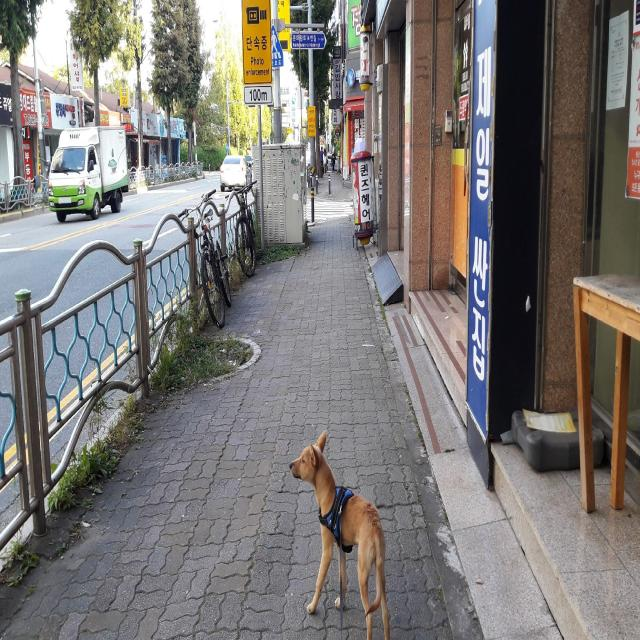횡단보도: (303, 200, 354, 226)
